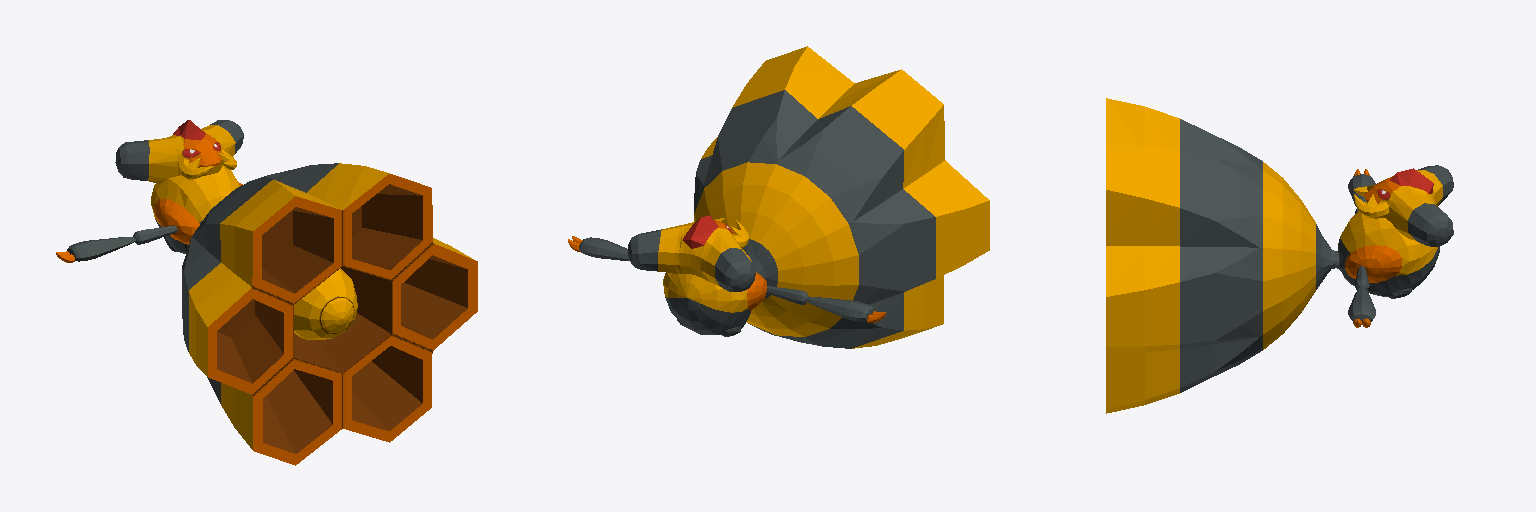
3 renders of one model, left to right at view 1: azimuth 30°, elevation 25°; view 2: azimuth 150°, elevation 25°; view 3: azimuth 270°, elevation 25°, orthographic.
Parts seen in each view (by area): view 1: beequen; view 2: beequen; view 3: beequen.
Part boxes in pixels (x1,y1,x2,y2): beequen: (56, 120, 477, 465); beequen: (568, 46, 989, 348); beequen: (1106, 98, 1453, 413).
Size of the model in its own units: 12.73 by 10.42 by 12.17.
2 materials, 1 textured.